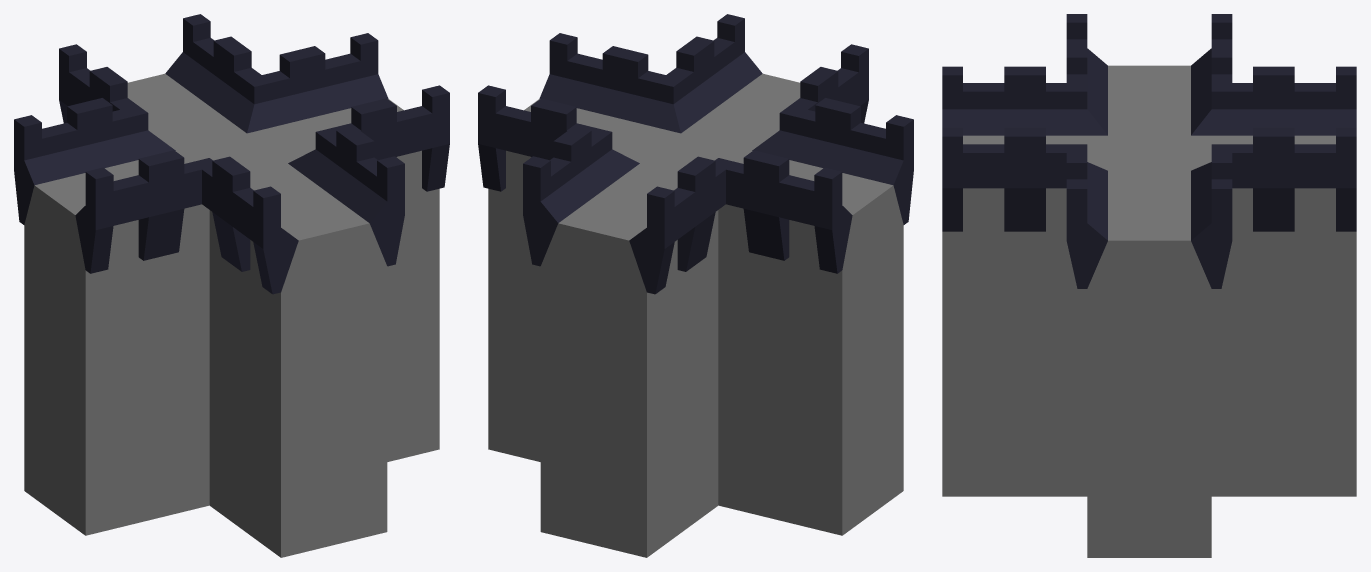
Rendered from Defence Cross.fbx.
The picture shows the model from 3 angles, left to right: view 1: azimuth 30°, elevation 25°; view 2: azimuth 150°, elevation 25°; view 3: azimuth 270°, elevation 25°; orthographic projection.
Visible parts, largest first — view 1: Defense Quadrumple; view 2: Defense Quadrumple; view 3: Defense Quadrumple.
Part boxes in pixels (x1,y1,x2,y2): Defense Quadrumple: [14, 14, 449, 557]; Defense Quadrumple: [478, 14, 913, 557]; Defense Quadrumple: [942, 14, 1356, 557].
Bounding box in the file's own units: 100 × 98.23 × 100.
